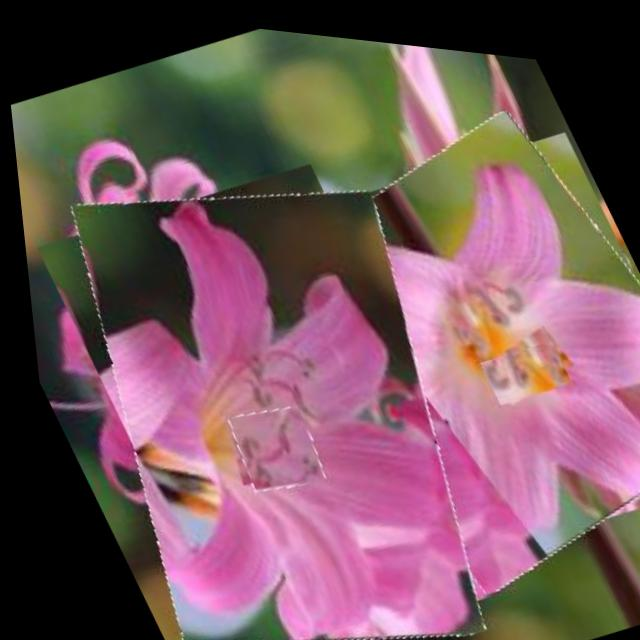Flower: (9, 109, 541, 640), (216, 70, 640, 613), (213, 388, 323, 499), (470, 321, 570, 403)
